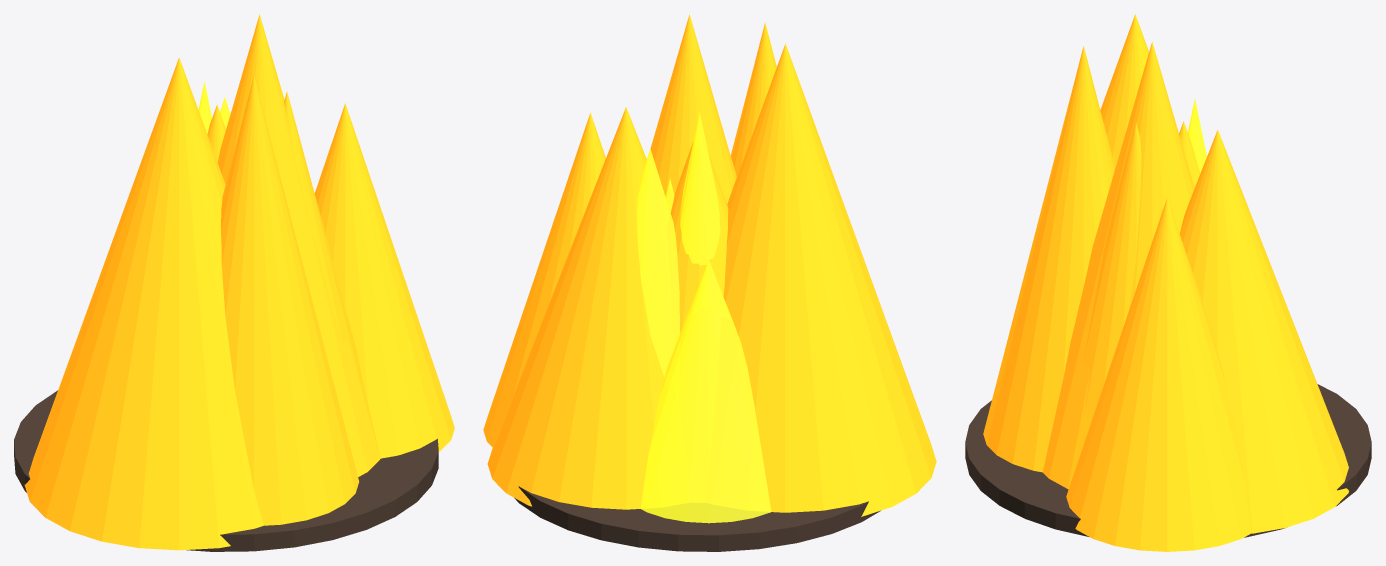
File: fire_flames.glb
3 views of the same model, side by side, from view 1: azimuth 30°, elevation 25°; view 2: azimuth 150°, elevation 25°; view 3: azimuth 270°, elevation 25° (orthographic). The views are drawn at different scales.
Visible parts, largest first — view 1: fire_flames_3, fire_flames_4, fire_flames_5, fire_flames_0, fire_flames_21, fire_flames_1, fire_flames_2; view 2: fire_flames_3, fire_flames_6, fire_flames_8, fire_flames_21, fire_flames_5, fire_flames_0, fire_flames_10, fire_flames_13, fire_flames_2, fire_flames_4; view 3: fire_flames_5, fire_flames_6, fire_flames_4, fire_flames_0, fire_flames_21, fire_flames_1, fire_flames_3, fire_flames_13, fire_flames_2.
Boxes of the visible parts, x1,y1,x2,y2 form: fire_flames_3: (24, 57, 263, 550); fire_flames_4: (221, 75, 359, 525); fire_flames_5: (314, 103, 454, 458); fire_flames_0: (217, 14, 380, 476); fire_flames_21: (14, 390, 438, 551); fire_flames_1: (284, 91, 362, 382); fire_flames_2: (207, 104, 225, 161); fire_flames_3: (723, 43, 936, 516); fire_flames_6: (487, 107, 664, 509); fire_flames_8: (640, 260, 771, 523); fire_flames_21: (514, 486, 880, 551); fire_flames_5: (483, 112, 605, 447); fire_flames_0: (650, 14, 736, 203); fire_flames_10: (637, 149, 679, 377); fire_flames_13: (680, 112, 720, 265); fire_flames_2: (670, 141, 728, 332); fire_flames_4: (730, 22, 776, 176); fire_flames_5: (1066, 198, 1250, 551); fire_flames_6: (1180, 130, 1348, 533); fire_flames_4: (983, 46, 1115, 472); fire_flames_0: (1042, 42, 1194, 489); fire_flames_21: (965, 384, 1371, 537); fire_flames_1: (1083, 122, 1141, 418); fire_flames_3: (1100, 14, 1148, 167); fire_flames_13: (1188, 99, 1206, 173); fire_flames_2: (1179, 121, 1200, 187).
Size of the model in its own units: 0.7595 by 0.7905 by 0.68.
